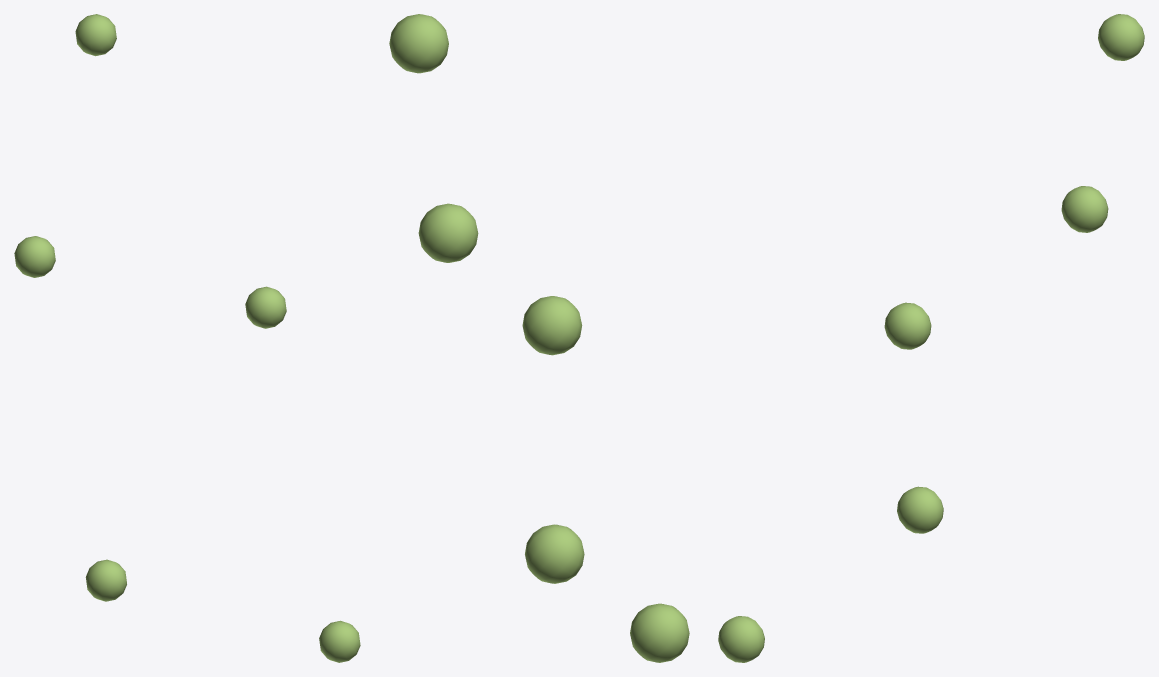
Rendered from interpectoral-nodes-r.glb.
3 renders of one model, left to right at view 1: azimuth 30°, elevation 25°; view 2: azimuth 150°, elevation 25°; view 3: azimuth 270°, elevation 25°, orthographic. The views are drawn at different scales.
Parts seen in each view (by area): view 1: Interpectoral nodes.r; view 2: Interpectoral nodes.r; view 3: Interpectoral nodes.r.
Boxes of the visible parts, x1=… form: Interpectoral nodes.r: x1=14, y1=14, x2=360, y2=662; Interpectoral nodes.r: x1=389, y1=14, x2=689, y2=662; Interpectoral nodes.r: x1=718, y1=14, x2=1144, y2=662.
Bounding box in the file's own units: 0.0135 × 0.0366 × 0.0234.
